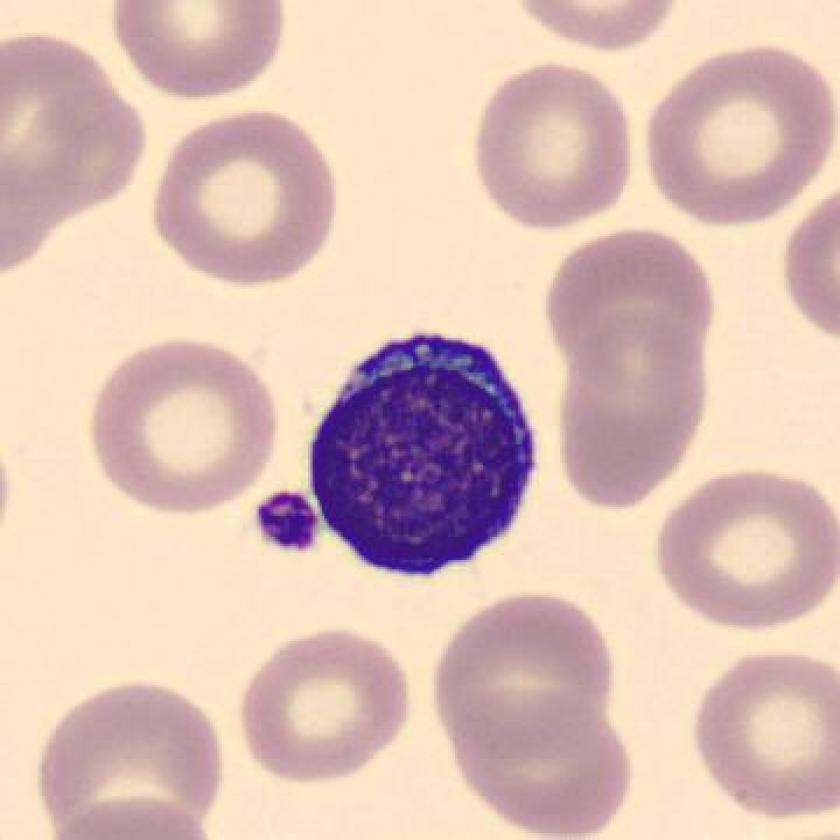lymphocyte: (300, 316, 542, 593)
